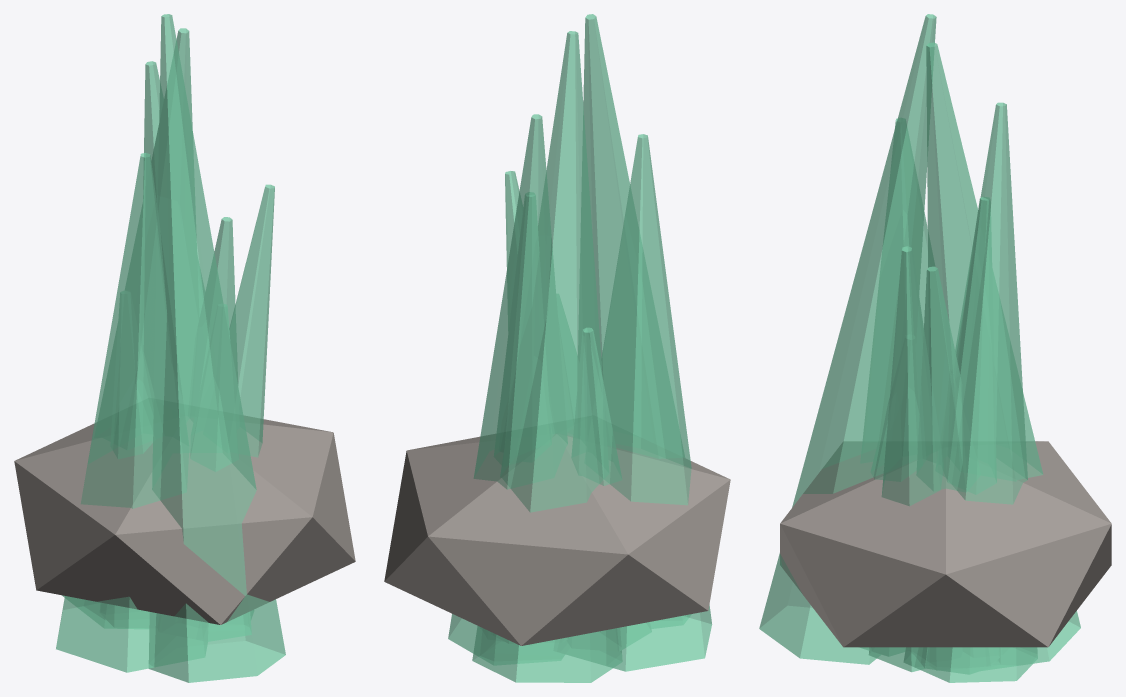
File: variant_crystal_emerald.glb
3 renders of one model, left to right at view 1: azimuth 30°, elevation 25°; view 2: azimuth 150°, elevation 25°; view 3: azimuth 270°, elevation 25°, orthographic.
Visible parts, largest first — view 1: Crystal; view 2: Crystal; view 3: Crystal.
Boxes of the visible parts, left/top/right/bottom form: Crystal: left=14, top=14, right=355, bottom=682; Crystal: left=384, top=14, right=730, bottom=682; Crystal: left=759, top=14, right=1111, bottom=682.
Size of the model in its own units: 0.6261 by 1.25 by 0.6329.
